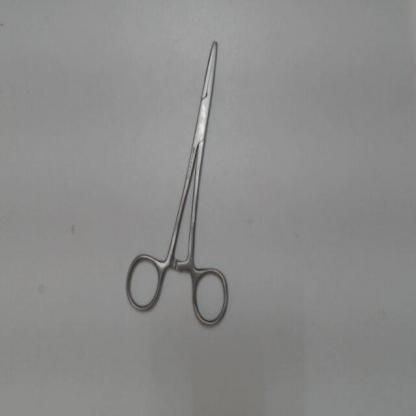Mayo Needle Holder: (119, 24, 237, 338)
